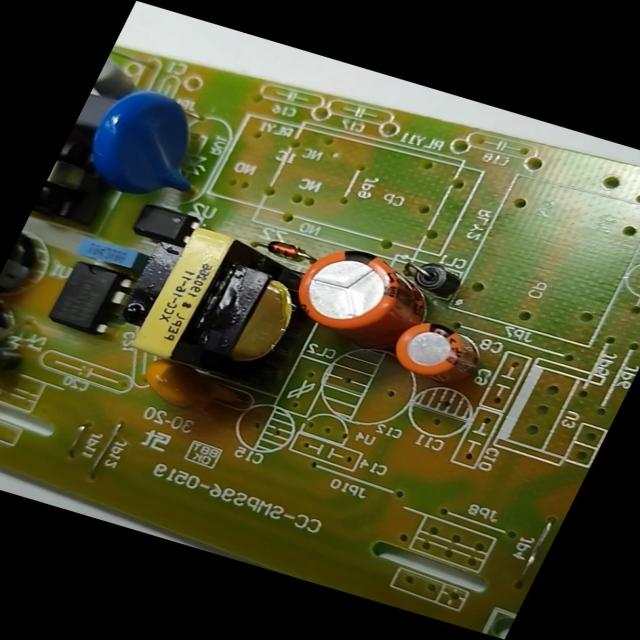Cap1: (279, 236, 444, 354)
Cap2: (382, 311, 491, 388)
Cap3: (0, 218, 61, 310)
Cap4: (0, 294, 31, 390)
MOSFET: (39, 254, 144, 342)
Mov: (65, 76, 227, 208)
Resistor: (91, 50, 146, 102)
Transformer: (114, 218, 341, 399), (28, 129, 140, 238)
